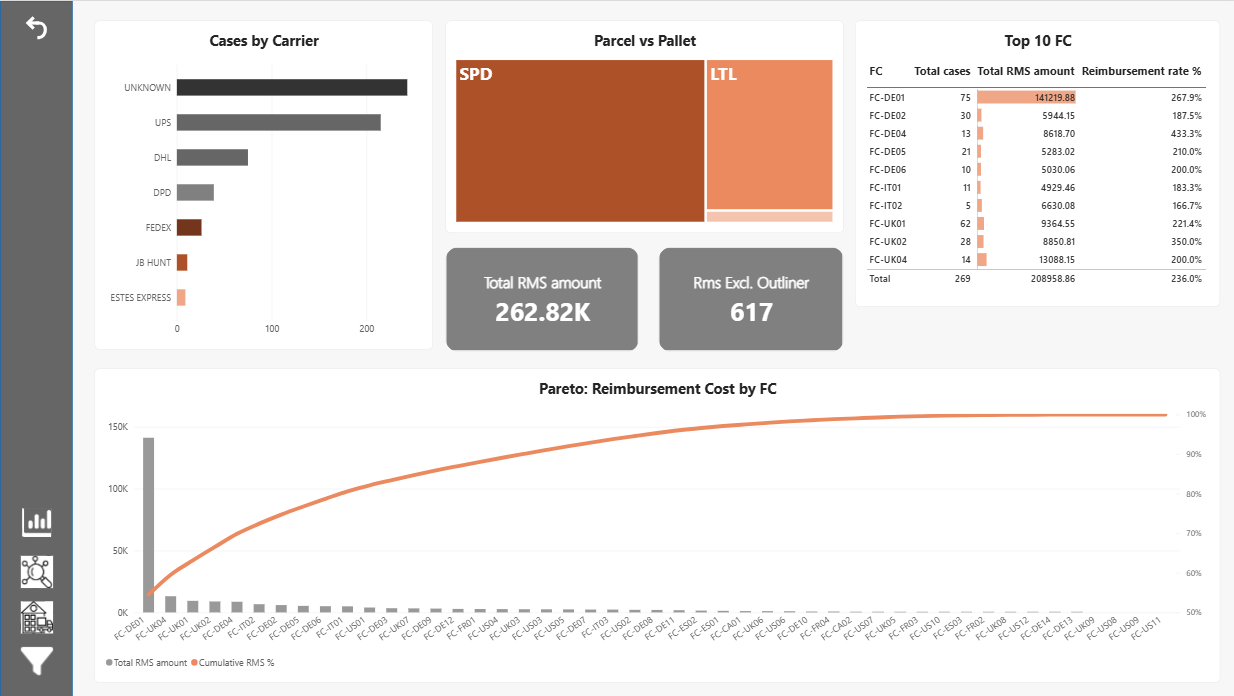

This screenshot's page, from the dashboard's own definition file:
{"tool":"powerbi","page":{"name":"FC & Operations","canvas":[1920,1080],"ordinal":2},"visuals":[{"type":"shape","box":[0,0,112.5,1080],"z":0},{"type":"cardVisual","fields":{"Data":["Measures_Table.Total RMS amount"]},"box":[690.5,380.6,300,162.5],"z":0,"group":"g1"},{"type":"actionButton","box":[7.5,767.5,100,82.5],"z":0,"group":"g2"},{"type":"cardVisual","fields":{"Data":["Measures_Table.Rms Excl. Outliner"]},"box":[1019.9,380.6,287.5,162.5],"z":1000,"group":"g1"},{"type":"lineClusteredColumnComboChart","title":"Pareto: Reimbursement Cost by FC","fields":{"Category":["RMS_Clean.FC"],"Y":["Measures_Table.Total RMS amount"],"Y2":["Measures_Table.Cumulative RMS %"]},"box":[147.5,570,1745,487.5],"z":1000},{"type":"actionButton","box":[7.5,850,100,72.5],"z":1000,"group":"g2"},{"type":"tableEx","title":"Top 10 FC","fields":{"Values":["RMS_Clean.FC","Measures_Table.Total cases","Measures_Table.Total RMS amount","Measures_Table.Reimbursement rate %"]},"box":[1324.8,29.3,566,444],"z":2000},{"type":"actionButton","box":[7.5,922.5,100,65],"z":2000,"group":"g2"},{"type":"treemap","title":"Parcel vs Pallet","fields":{"Group":["RMS_Clean.Shipment Type"],"Values":["Measures_Table.Total cases"]},"box":[690.5,29.3,617.3,329.4],"z":3000},{"type":"actionButton","box":[7.5,987.5,100,70],"z":3000,"group":"g2"},{"type":"clusteredBarChart","title":"Cases by Carrier","fields":{"Category":["RMS_Clean.Carrier"],"Y":["Measures_Table.Total cases"]},"box":[146.4,29.3,524.6,509.9],"z":4000},{"type":"actionButton","box":[7.3,0,100,82.5],"z":5000},{"type":"group","id":"g1","title":"KPI cards","box":[690.5,380.6,616.9,162.5],"z":6000},{"type":"group","id":"g2","title":"Navigation buttons","box":[7.5,767.5,100,290],"z":7000}]}

Visuals, with their boxes on the page's 1920x1080 design canvas (x1, y1, x2, y2). These are canvas units, not pixel positions in the 1234x696 screenshot, which may show the page scaled, cropped or inside an application window:
shape: [0,0,112,1080]
cardVisual - Measures_Table.Total RMS amount: [690,381,990,543]
actionButton: [8,768,108,850]
cardVisual - Measures_Table.Rms Excl. Outliner: [1020,381,1307,543]
"Pareto: Reimbursement Cost by FC" lineClusteredColumnComboChart: [148,570,1892,1058]
actionButton: [8,850,108,922]
"Top 10 FC" tableEx: [1325,29,1891,473]
actionButton: [8,922,108,988]
"Parcel vs Pallet" treemap: [690,29,1308,359]
actionButton: [8,988,108,1058]
"Cases by Carrier" clusteredBarChart: [146,29,671,539]
actionButton: [7,0,107,82]
"KPI cards" group: [690,381,1307,543]
"Navigation buttons" group: [8,768,108,1058]
